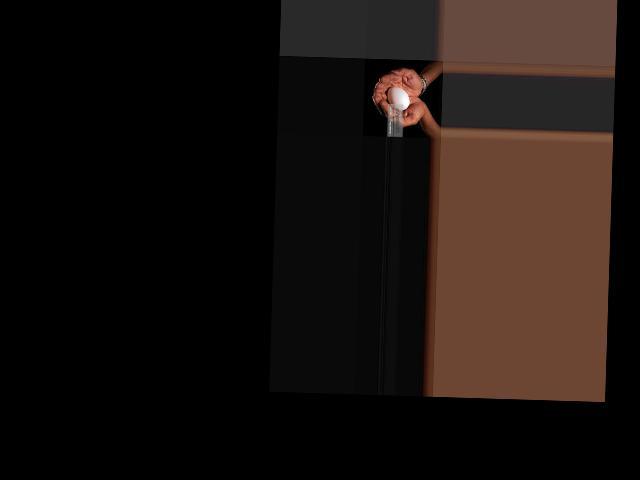egg: (386, 86, 409, 109)
